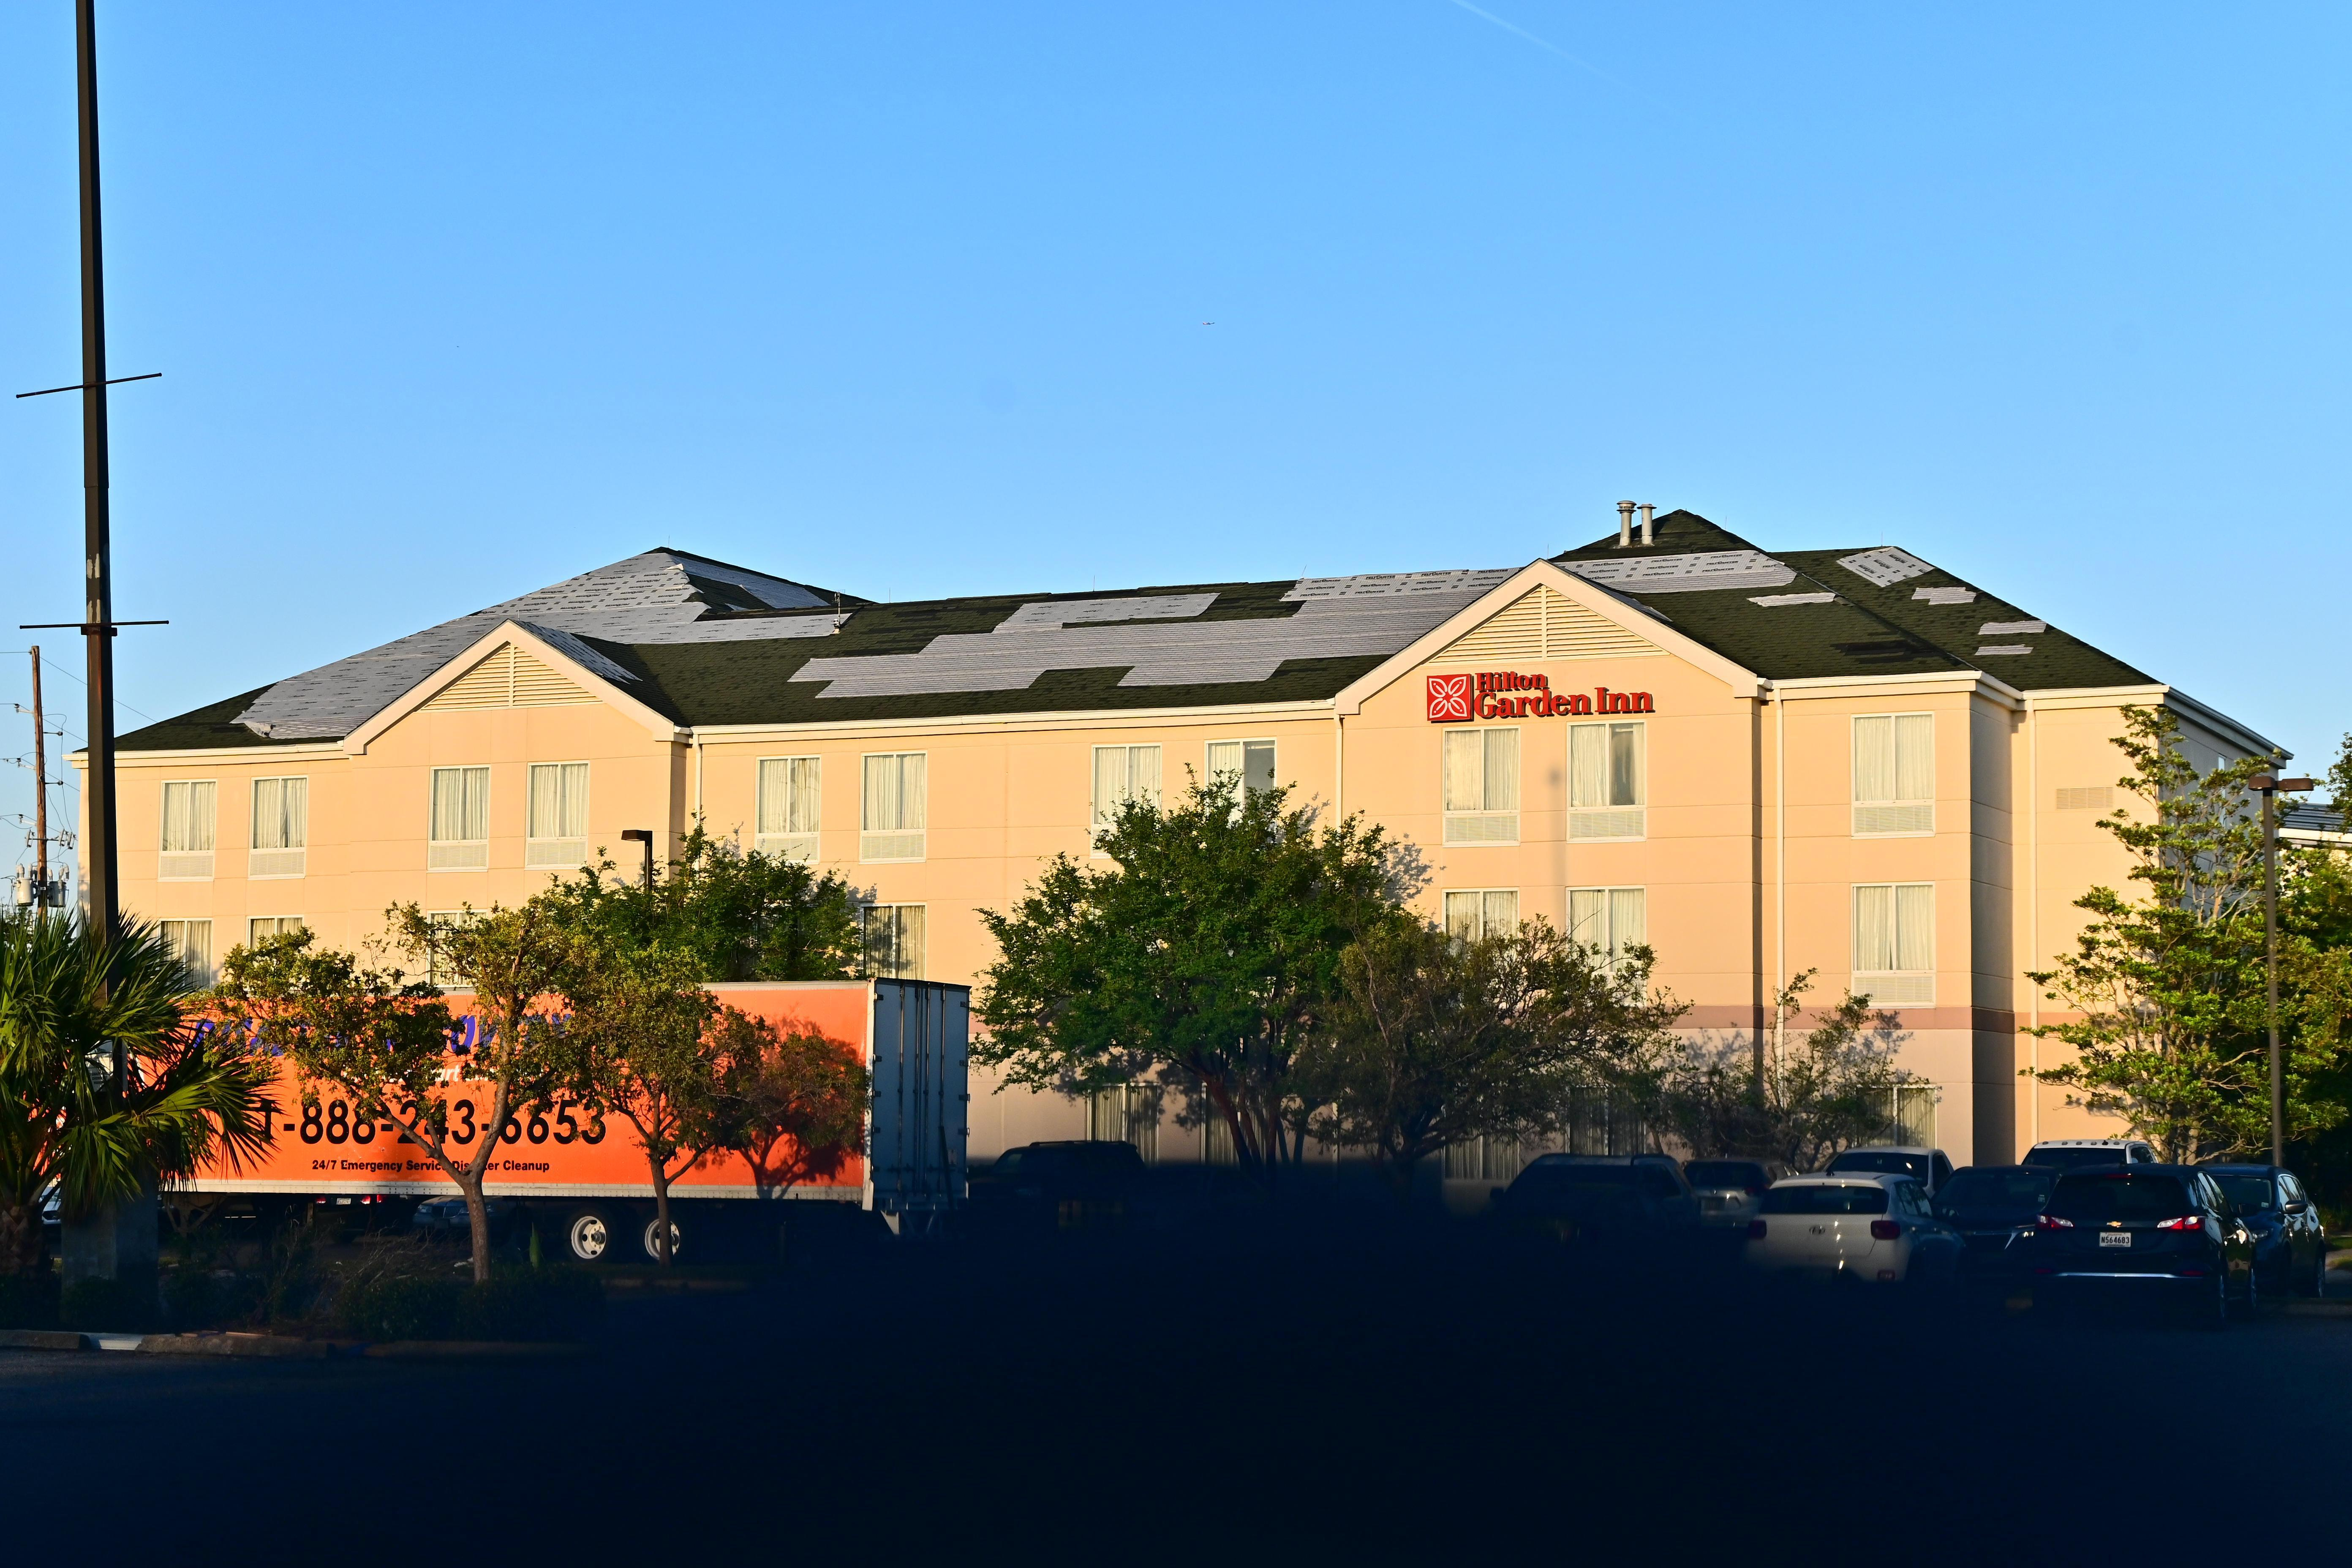minor: (46, 509, 2342, 1195)
